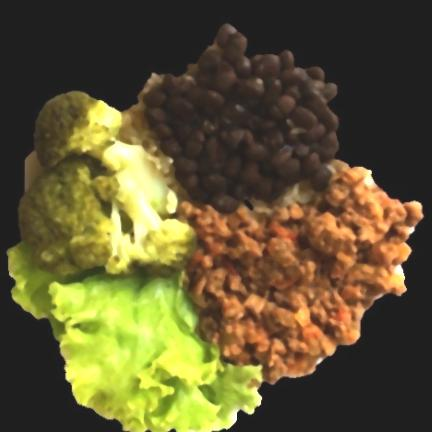beans: (140, 24, 338, 211)
broccoli: (19, 90, 193, 274)
meat: (179, 161, 422, 382)
salad: (8, 242, 261, 431)
